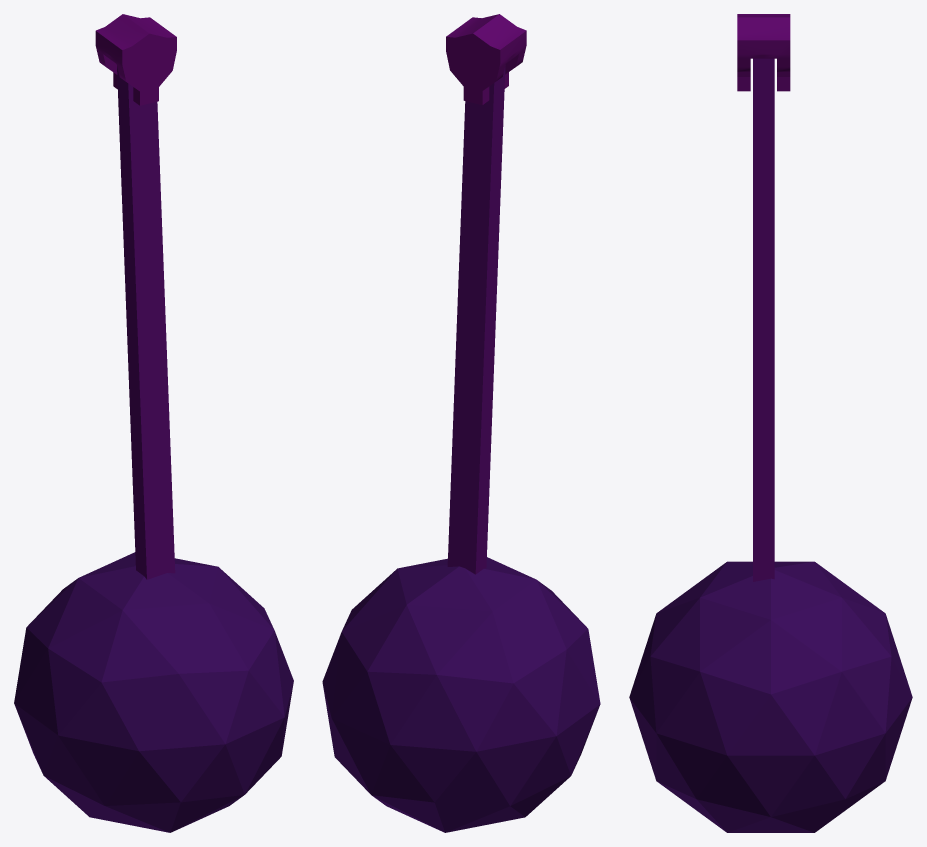
Rendered from space pendulum.fbx.
3 views of the same model, side by side, from view 1: azimuth 30°, elevation 25°; view 2: azimuth 150°, elevation 25°; view 3: azimuth 270°, elevation 25° (orthographic).
Visible parts, largest first — view 1: Icosphere, PendulumBlade, PendulumHolder; view 2: Icosphere, PendulumBlade, PendulumHolder; view 3: Icosphere, PendulumBlade, PendulumHolder.
Boxes of the visible parts, bbox=[...] form: Icosphere: bbox=[14, 552, 293, 832]; PendulumBlade: bbox=[117, 66, 175, 579]; PendulumHolder: bbox=[95, 14, 176, 105]; Icosphere: bbox=[322, 557, 600, 832]; PendulumBlade: bbox=[447, 65, 505, 574]; PendulumHolder: bbox=[446, 14, 526, 105]; Icosphere: bbox=[629, 561, 912, 832]; PendulumBlade: bbox=[753, 58, 774, 581]; PendulumHolder: bbox=[737, 14, 790, 91].
Bounding box in the file's own units: 303 × 990 × 319.
